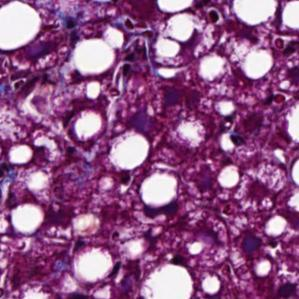inflammation: (148, 73, 213, 121), (178, 160, 222, 199), (39, 198, 85, 234)
